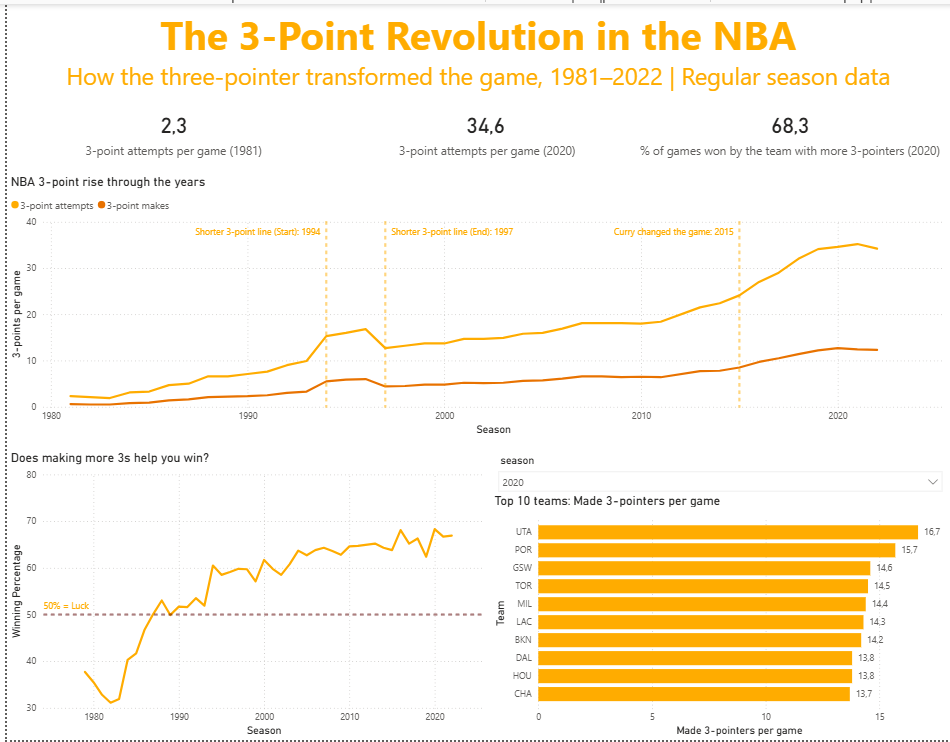

The page's visual inventory and layout, read from the dashboard file:
{"tool":"powerbi","page":{"name":"Dashboard","canvas":[1280,1000],"ordinal":3},"visuals":[{"type":"lineChart","title":"NBA 3-point rise through the years","fields":{"Category":["seasons.season"],"Y":["Sum(seasons.three_pa_per_game)","Sum(seasons.three_pm_per_game)"]},"box":[0,231,1280.6,360.1],"z":0},{"type":"lineChart","title":"Does making more 3s help you win?","fields":{"Category":["Does_3pt_win_games.season"],"Y":["Sum(Does_3pt_win_games.pct_team_with_more_3s_won)"]},"box":[0,606.3,657.3,394],"z":1000},{"type":"clusteredBarChart","title":"Top 10 teams: Made 3-pointers per game","fields":{"Category":["3pts_made.team"],"Y":["Avg(3pts_made.three_pm_per_game)"]},"box":[657.3,664.1,623.3,336.3],"z":2000},{"type":"slicer","fields":{"Values":["3pts_made.season"]},"box":[657.3,606.3,623.3,57.7],"z":3000},{"type":"textbox","box":[0,0,1280.6,129.1],"z":4000},{"type":"card","fields":{"Values":["Sum(seasons.three_pa_per_game)"]},"box":[0,129.1,453.5,90],"z":5000},{"type":"card","fields":{"Values":["Avg(seasons.three_pa_per_game)"]},"box":[453.5,129.1,394,90],"z":6000},{"type":"card","fields":{"Values":["Sum(Does_3pt_win_games.pct_team_with_more_3s_won)"]},"box":[847.5,129.1,433.1,90],"z":7000}]}

Visuals, with their boxes in screenshot pixels (x1, y1, x2, y2), scaled from the page's 1280x1000 canvas onto the 950x742 screenshot:
"NBA 3-point rise through the years" lineChart: 0,171,949,439
"Does making more 3s help you win?" lineChart: 0,450,488,741
"Top 10 teams: Made 3-pointers per game" clusteredBarChart: 488,493,949,741
slicer - 3pts_made.season: 488,450,949,493
textbox: 0,0,949,96
card - Sum(seasons.three_pa_per_game): 0,96,337,163
card - Avg(seasons.three_pa_per_game): 337,96,629,163
card - Sum(Does_3pt_win_games.pct_team_with_more_3s_won): 629,96,949,163
